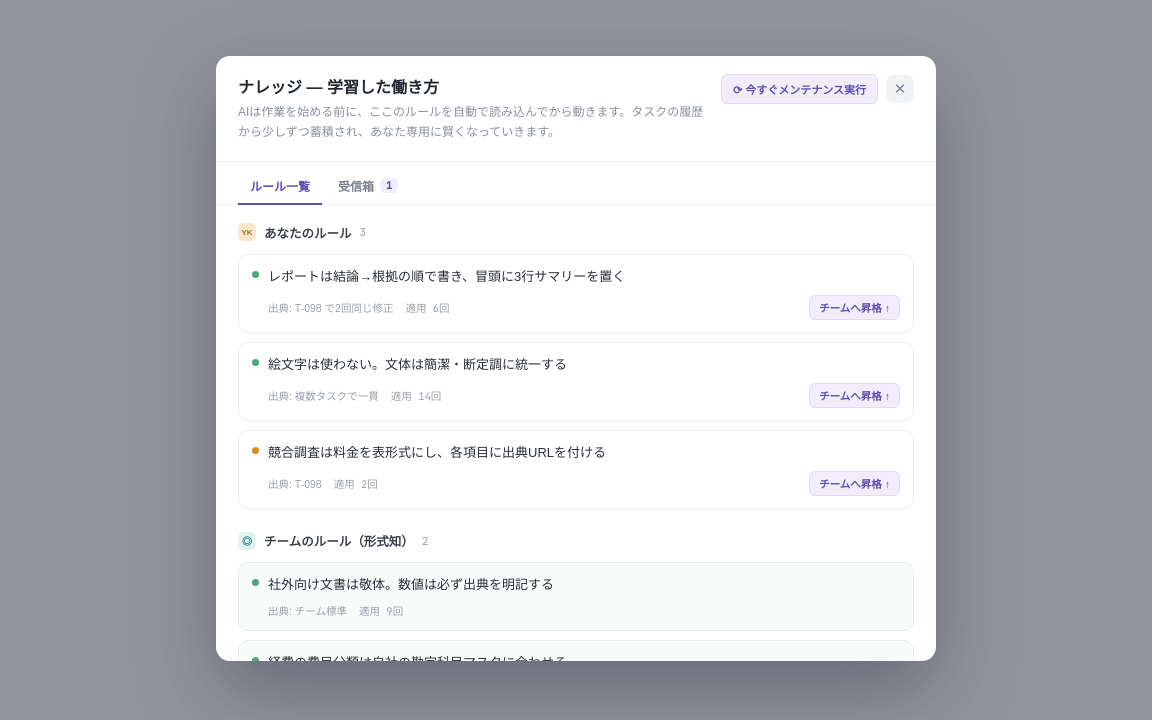
KnowledgeOverlay: 受信箱タブ（#26） › 採用で POST adopt → 提案が消え、新ルールが NEW 付きで rules へ・対象は archived
This screenshot has width=1152, height=720.
Click the tab "受信箱 1" at (368, 187), box [326, 170, 410, 205]
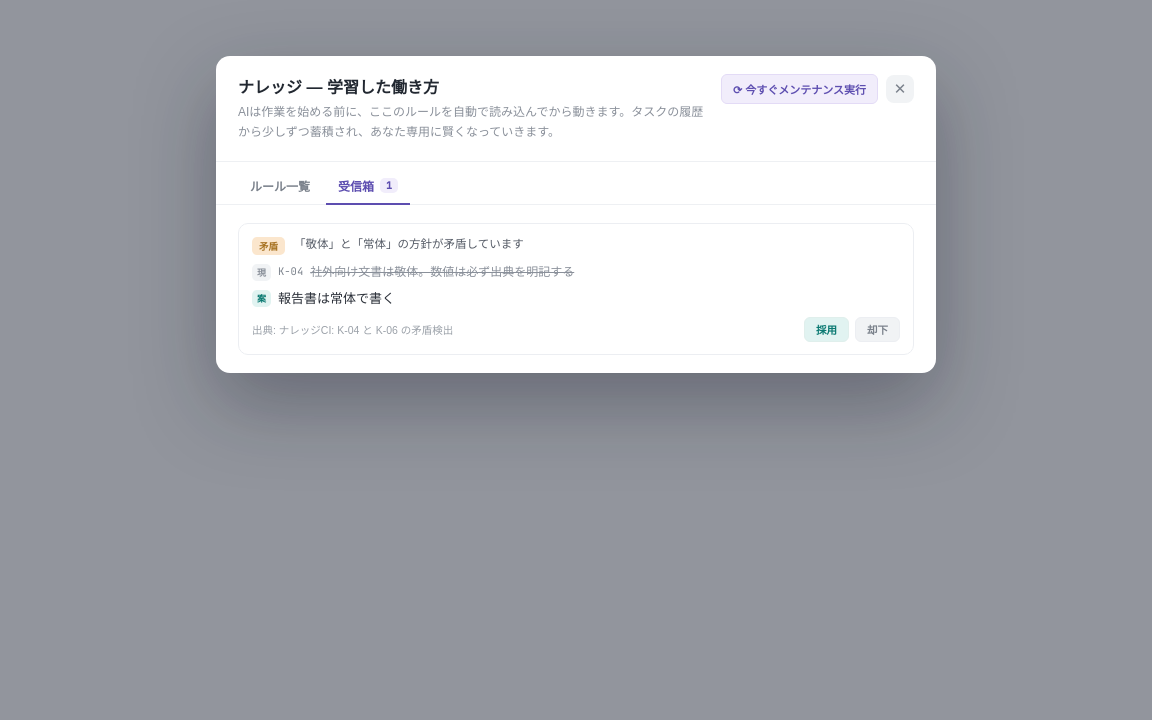
Click the button "採用" at (826, 330), box [804, 317, 849, 342]
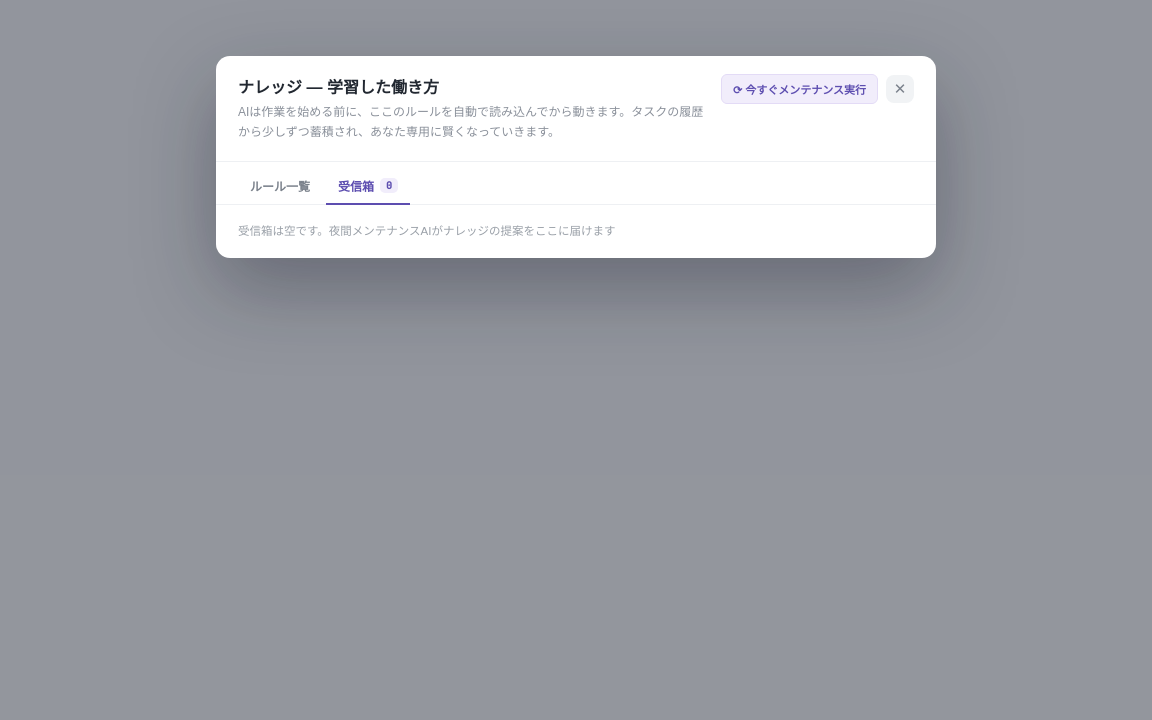
Check: the text "受信箱は空です。夜間メンテナンスAIがナレッジの提案をここに届けます" is shown, box [238, 225, 616, 237]
